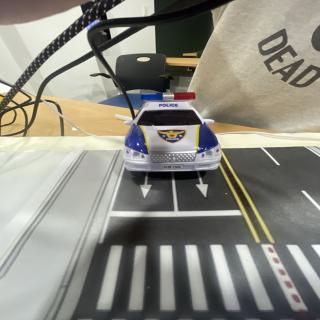Police_car: (123, 93, 221, 173)
